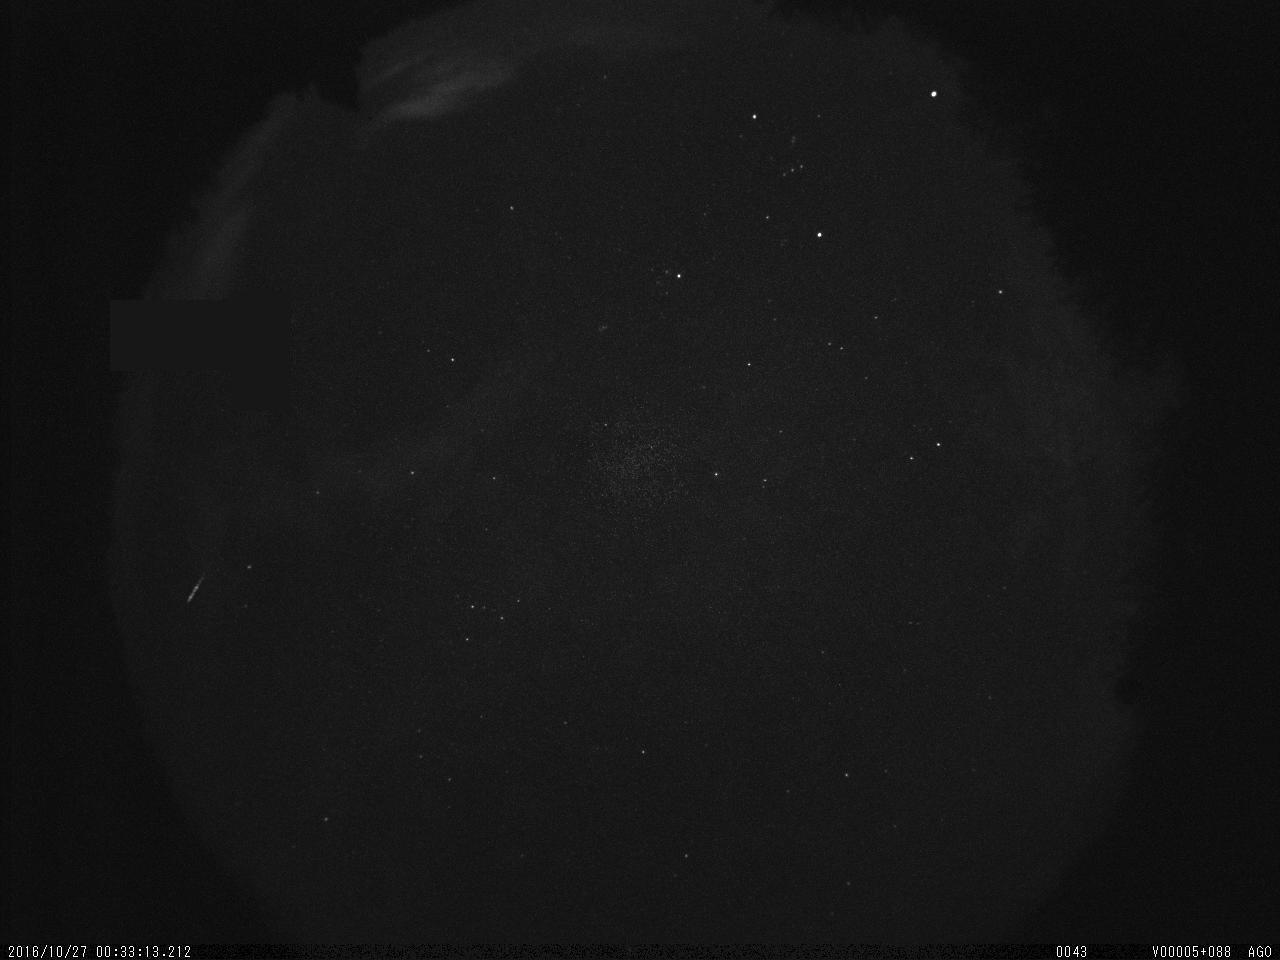meteor: (182, 563, 215, 615)
